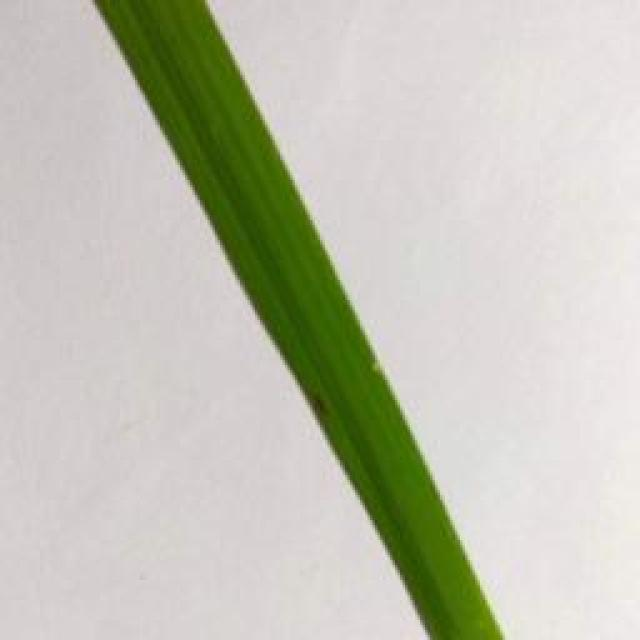Brown_Spot: (299, 394, 347, 421)
